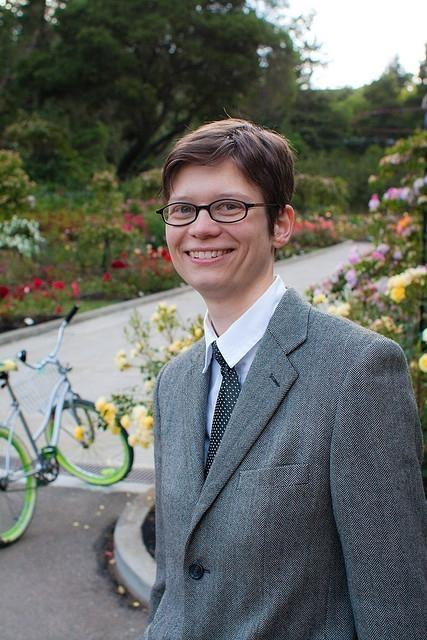bicycle: (1, 298, 138, 554)
